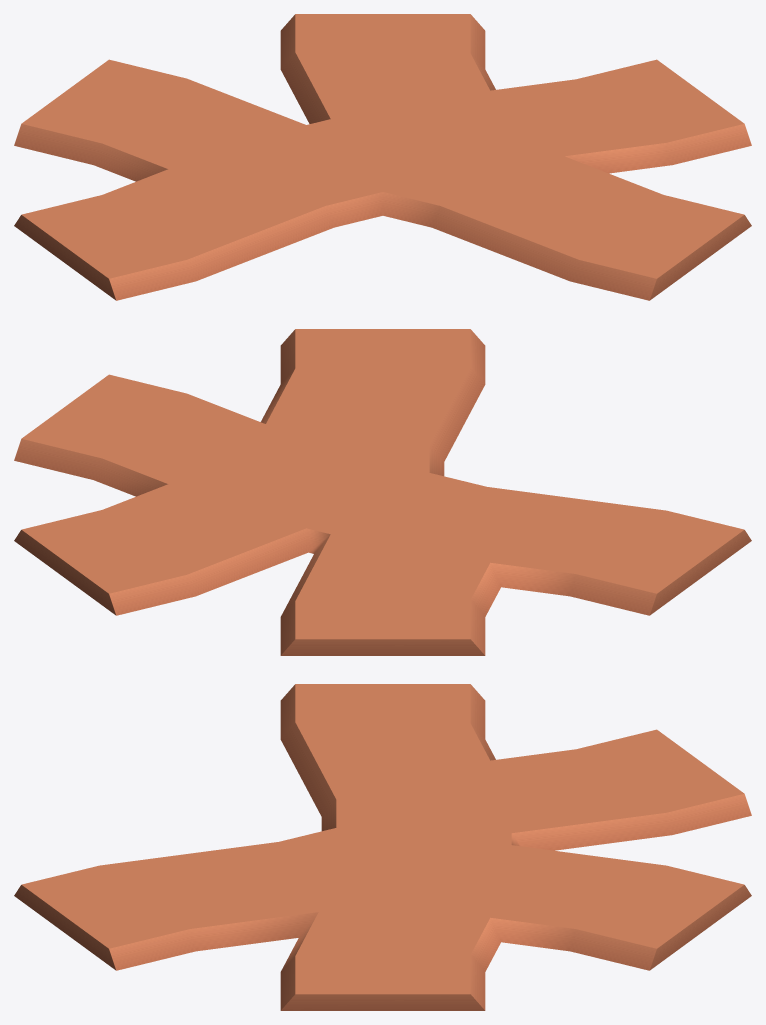
Rendered from path-intersectionG.fbx.
The picture shows the model from 3 angles, top to bottom: view 1: azimuth 30°, elevation 25°; view 2: azimuth 150°, elevation 25°; view 3: azimuth 270°, elevation 25°; orthographic projection.
Parts seen in each view (by area): view 1: path_intersectionG; view 2: path_intersectionG; view 3: path_intersectionG.
Part boxes in pixels (x1,y1,x2,y2): path_intersectionG: (14,14,751,300); path_intersectionG: (14,329,751,655); path_intersectionG: (14,684,751,1010).
Bounding box in the file's own units: 100 × 2.5 × 101.
1 material, 1 textured.
